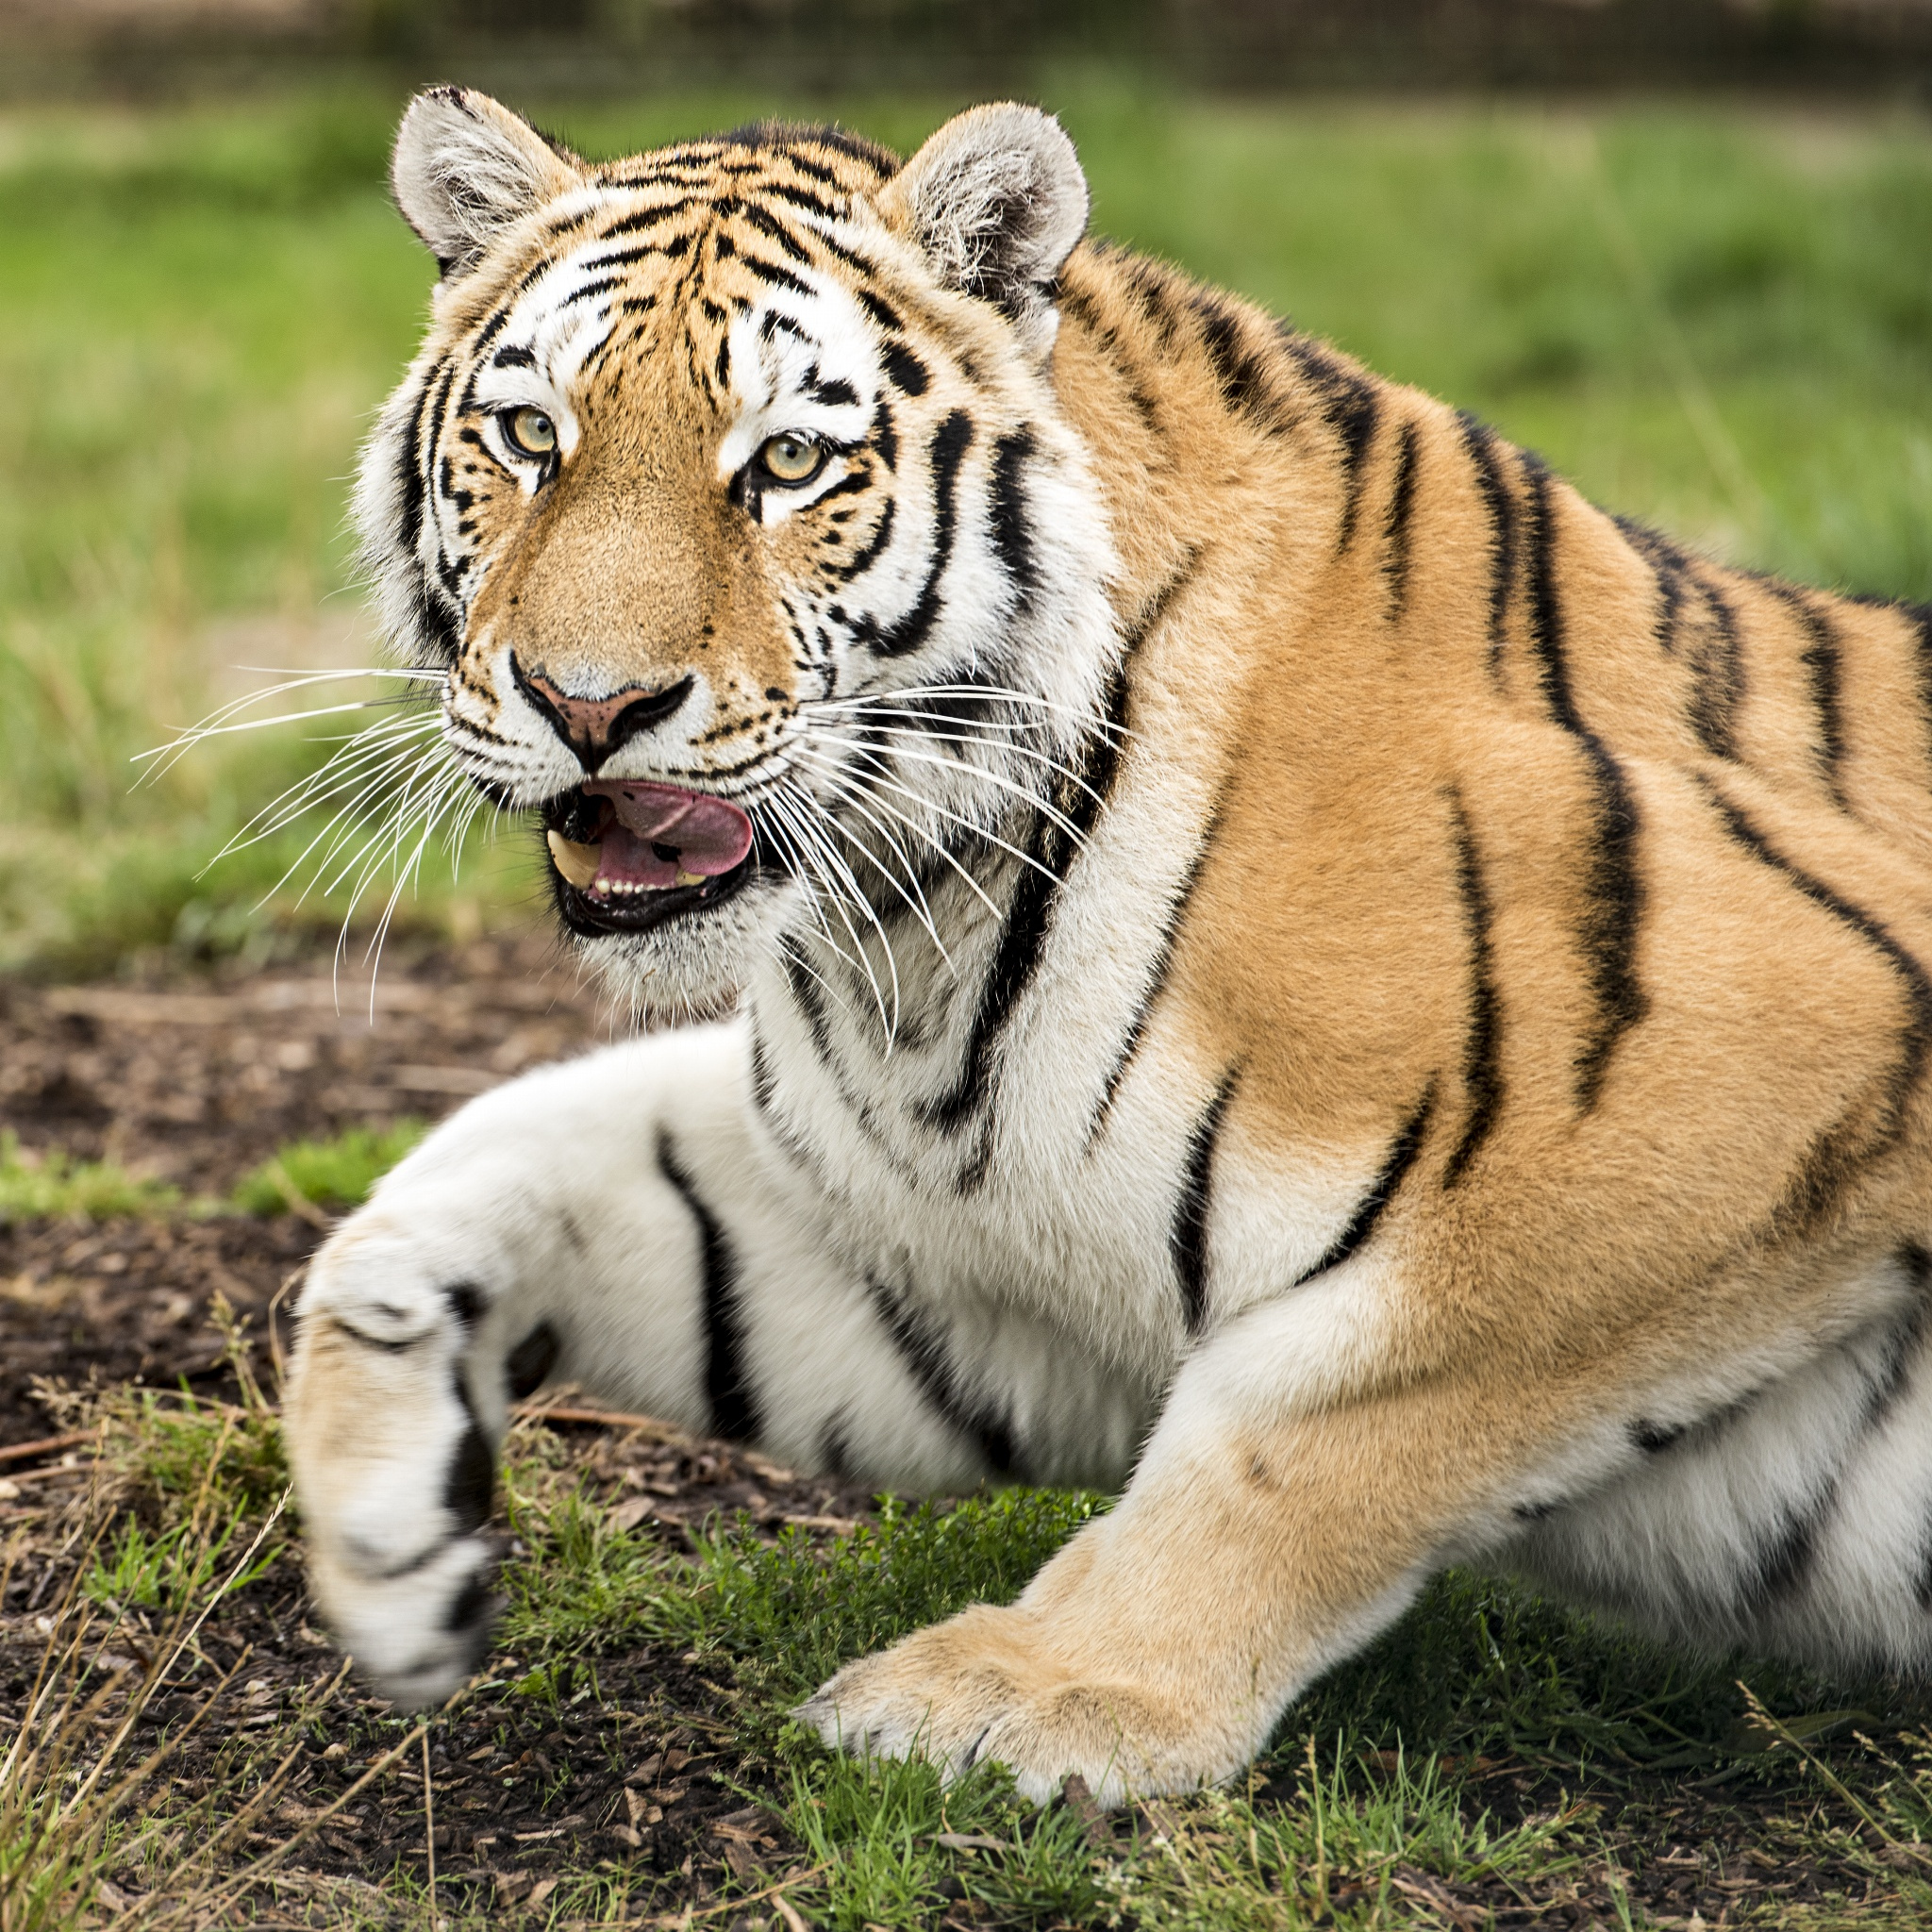tiger: (317, 76, 1913, 1773)
